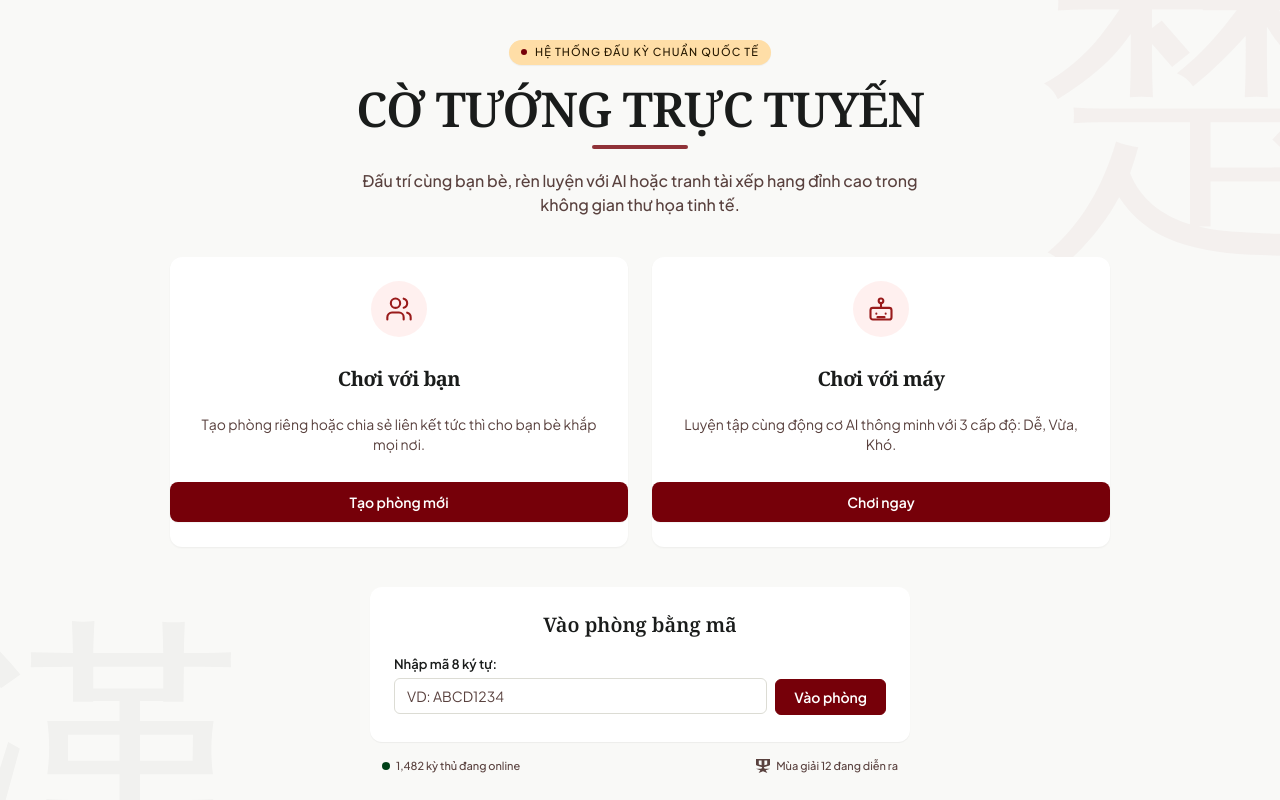
Test: HomePage › shows error for invalid room code (too short)
Type "ABC" into the field named "Vào phòng bằng mã" at (581, 696), box [394, 678, 767, 714]
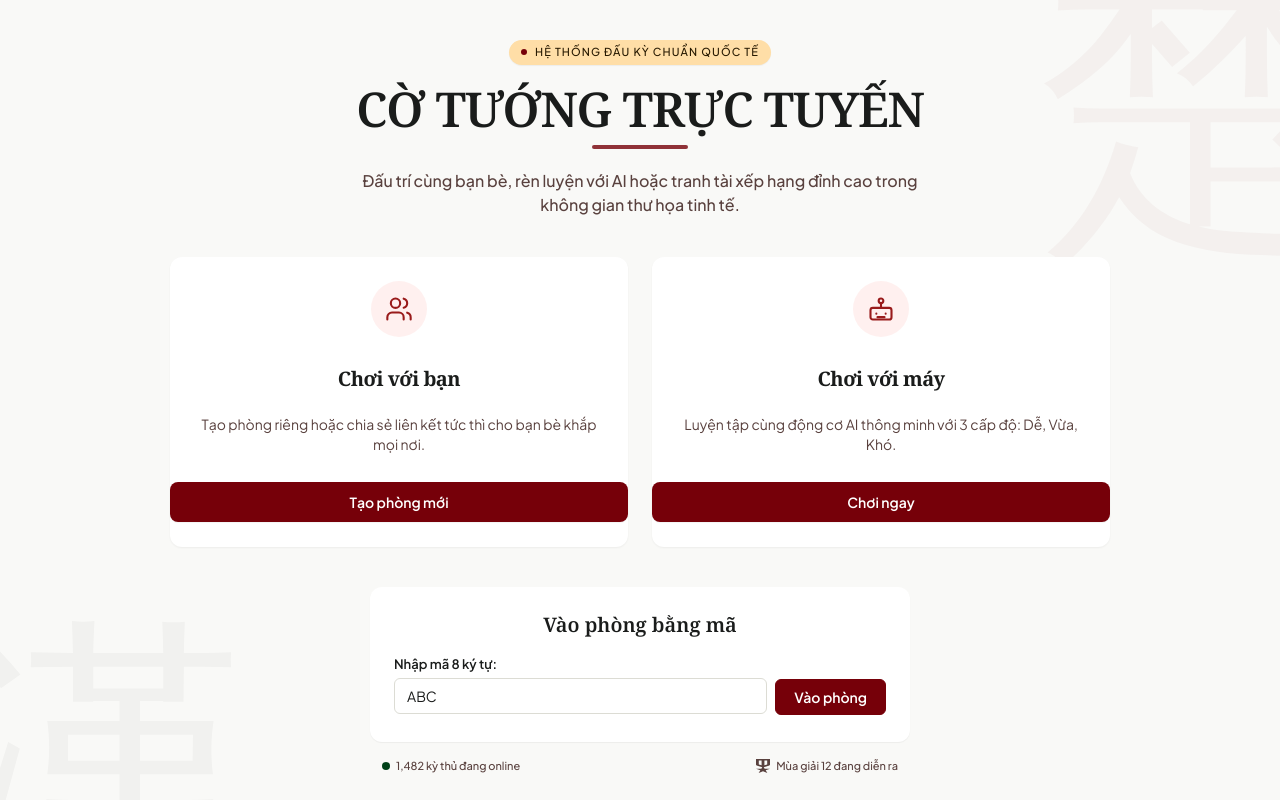
Click the button "Vào phòng" at (831, 696), box [775, 678, 886, 714]
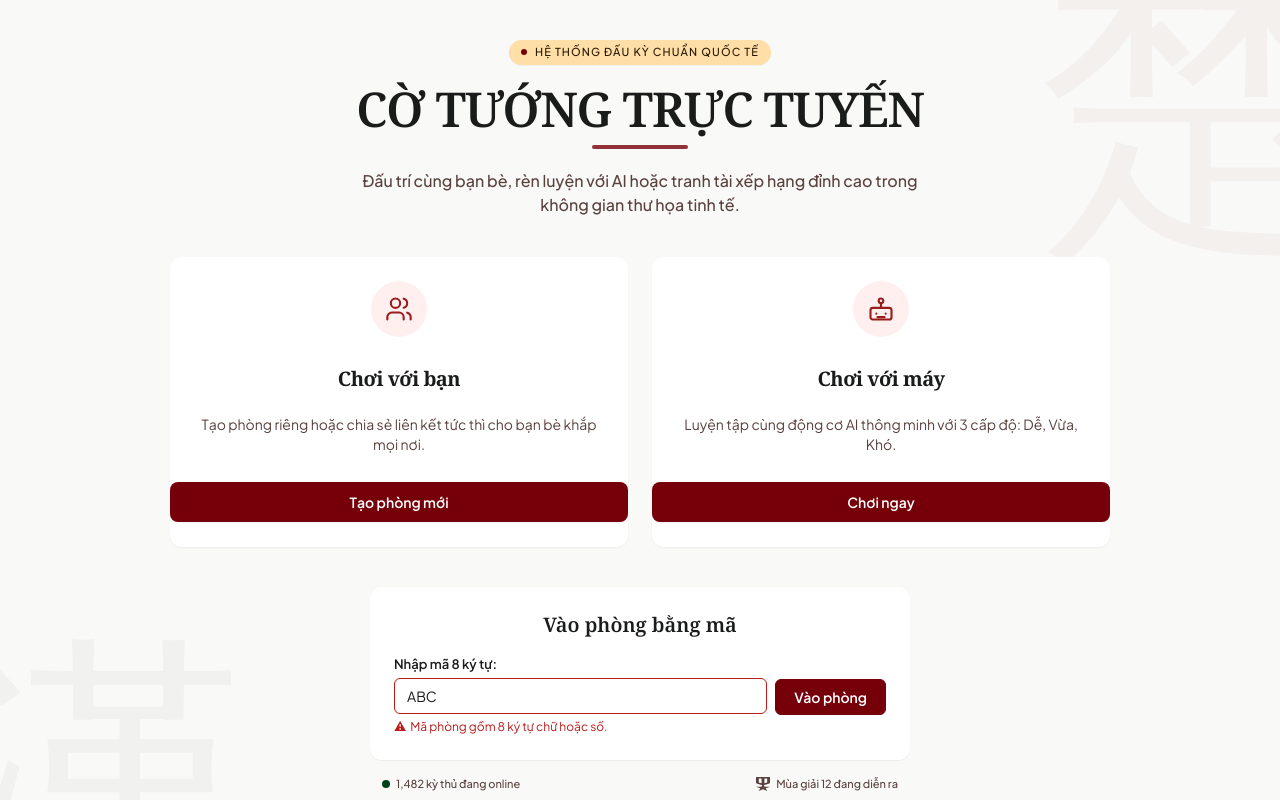
Expected: the text "Mã phòng gồm 8 ký tự chữ hoặc số." is shown, [410, 719, 608, 734]
